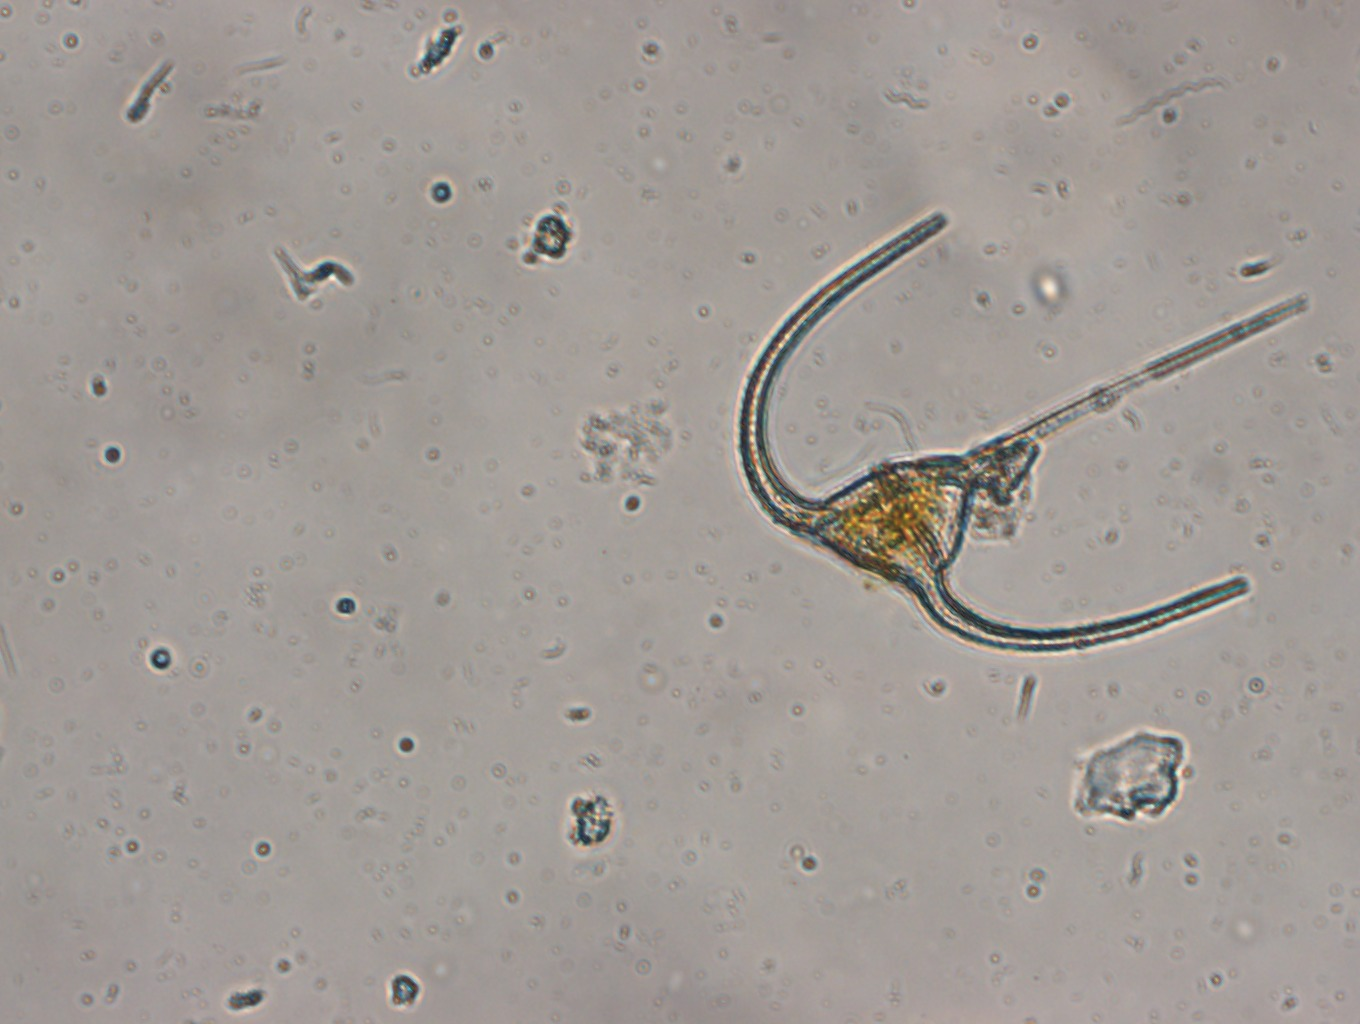ceratium trichoceros: (726, 201, 1329, 663)
